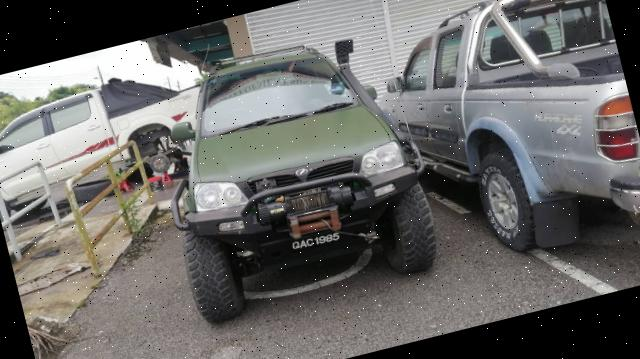License_Plate: (285, 229, 346, 255)
car: (132, 11, 459, 335)
